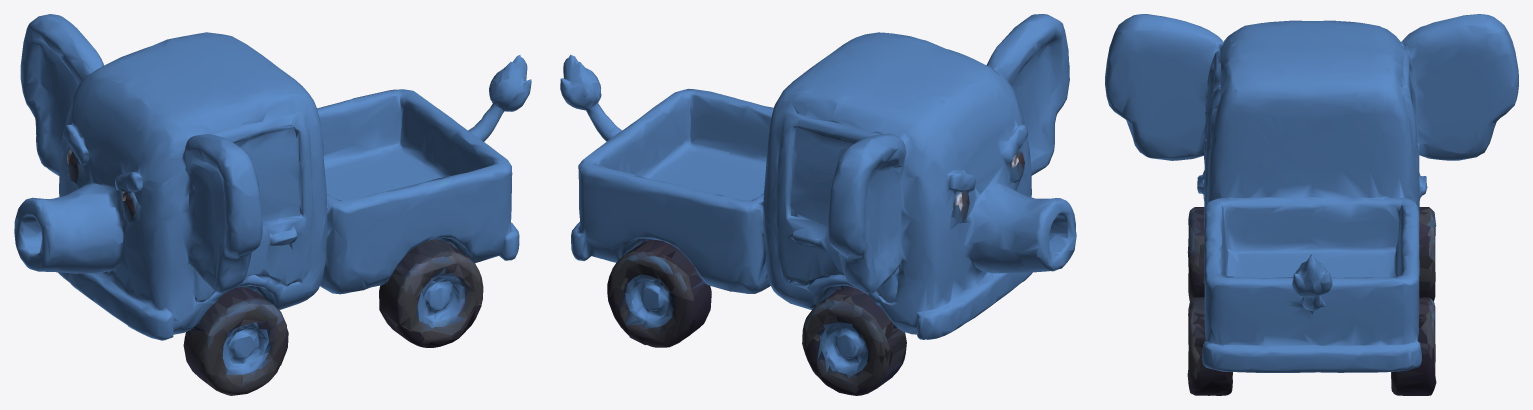
File: kamyon.glb
3 views of the same model, side by side, from view 1: azimuth 30°, elevation 25°; view 2: azimuth 150°, elevation 25°; view 3: azimuth 270°, elevation 25° (orthographic). The views are drawn at different scales.
Parts seen in each view (by area): view 1: govde, teker_arka_sol, teker_on_sol; view 2: govde, teker_arka_sag, teker_on_sag; view 3: govde, teker_arka_sol, teker_arka_sag, teker_on_sag, teker_on_sol.
Boxes of the visible parts, x1,y1,x2,y2 form: govde: (14, 14, 531, 340); teker_arka_sol: (379, 238, 483, 347); teker_on_sol: (183, 286, 288, 395); govde: (560, 14, 1076, 339); teker_arka_sag: (607, 238, 711, 347); teker_on_sag: (802, 285, 906, 395); govde: (1105, 14, 1518, 372); teker_arka_sol: (1187, 297, 1232, 395); teker_arka_sag: (1391, 297, 1436, 395); teker_on_sag: (1419, 207, 1436, 301); teker_on_sol: (1187, 207, 1204, 301).
Bounding box in the file's own units: 0.9803 × 0.5246 × 0.7408.
1 material, 1 textured.
